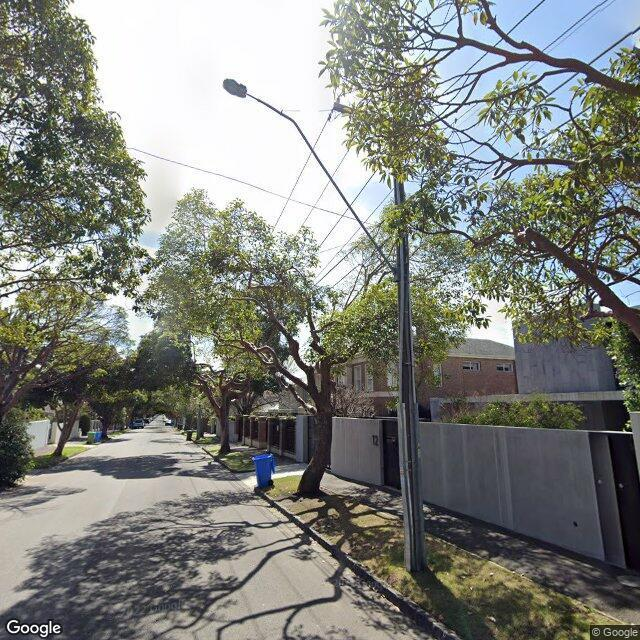crossarm: (328, 95, 450, 147)
streetlight: (222, 78, 398, 279)
timber-pole: (392, 182, 426, 574)
